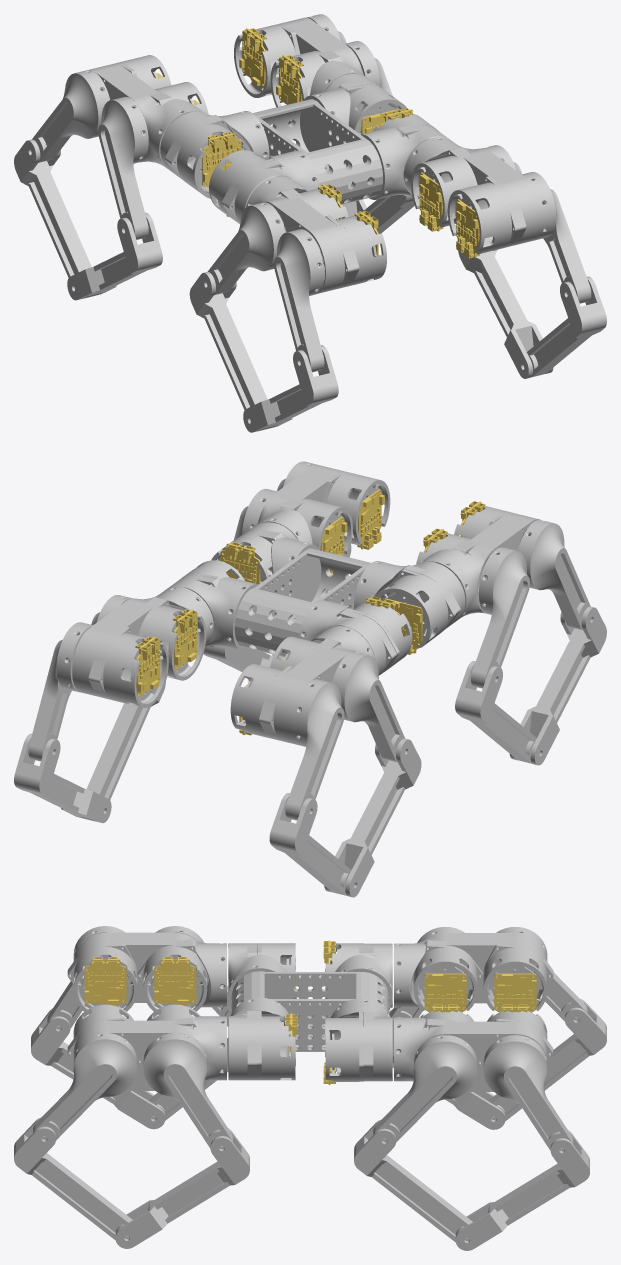
Rendered from 5_Bar_Dog.glb.
The picture shows the model from 3 angles, top to bottom: view 1: azimuth 30°, elevation 25°; view 2: azimuth 150°, elevation 25°; view 3: azimuth 270°, elevation 25°; orthographic projection. The views are drawn at different scales.
Visible parts, largest first — view 1: 5-bar dog glb; view 2: 5-bar dog glb; view 3: 5-bar dog glb.
Part boxes in pixels (left/top/right/bottom): 5-bar dog glb: left=14, top=14, right=606, bottom=432; 5-bar dog glb: left=14, top=461, right=606, bottom=897; 5-bar dog glb: left=14, top=926, right=606, bottom=1250.
Size of the model in its own units: 34.48 by 24.39 by 64.78.
